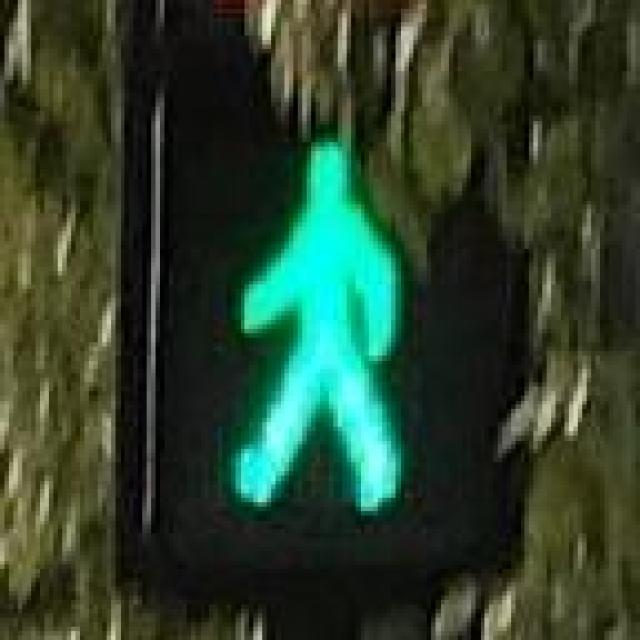green-light: (170, 103, 468, 530)
